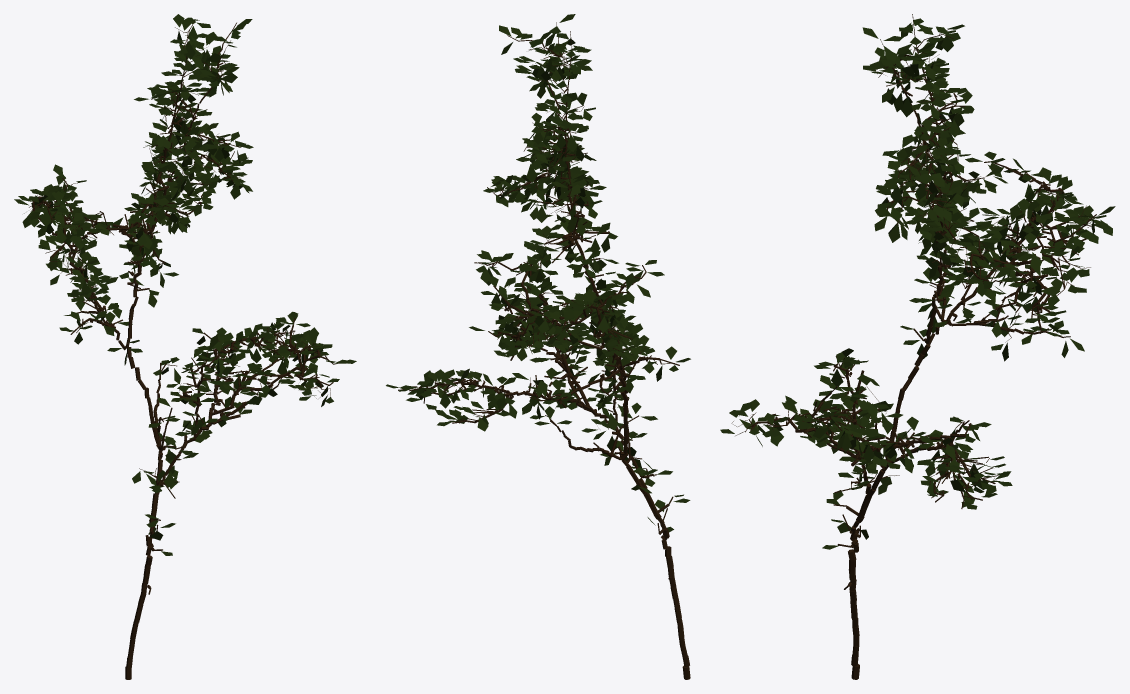
File: tree_284.obj
3 renders of one model, left to right at view 1: azimuth 30°, elevation 25°; view 2: azimuth 150°, elevation 25°; view 3: azimuth 270°, elevation 25°, orthographic. The views are drawn at different scales.
Visible parts, largest first — view 1: Leaves, TrunkAndBranches; view 2: Leaves, TrunkAndBranches; view 3: Leaves, TrunkAndBranches.
Boxes of the visible parts, box(x1,y1,x2,y2) form: Leaves: box(14, 14, 356, 555); TrunkAndBranches: box(29, 21, 339, 679); Leaves: box(386, 14, 690, 532); TrunkAndBranches: box(398, 22, 690, 679); Leaves: box(720, 18, 1115, 549); TrunkAndBranches: box(731, 14, 1096, 679).
Size of the model in its own units: 4.92 by 10.91 by 5.48.
